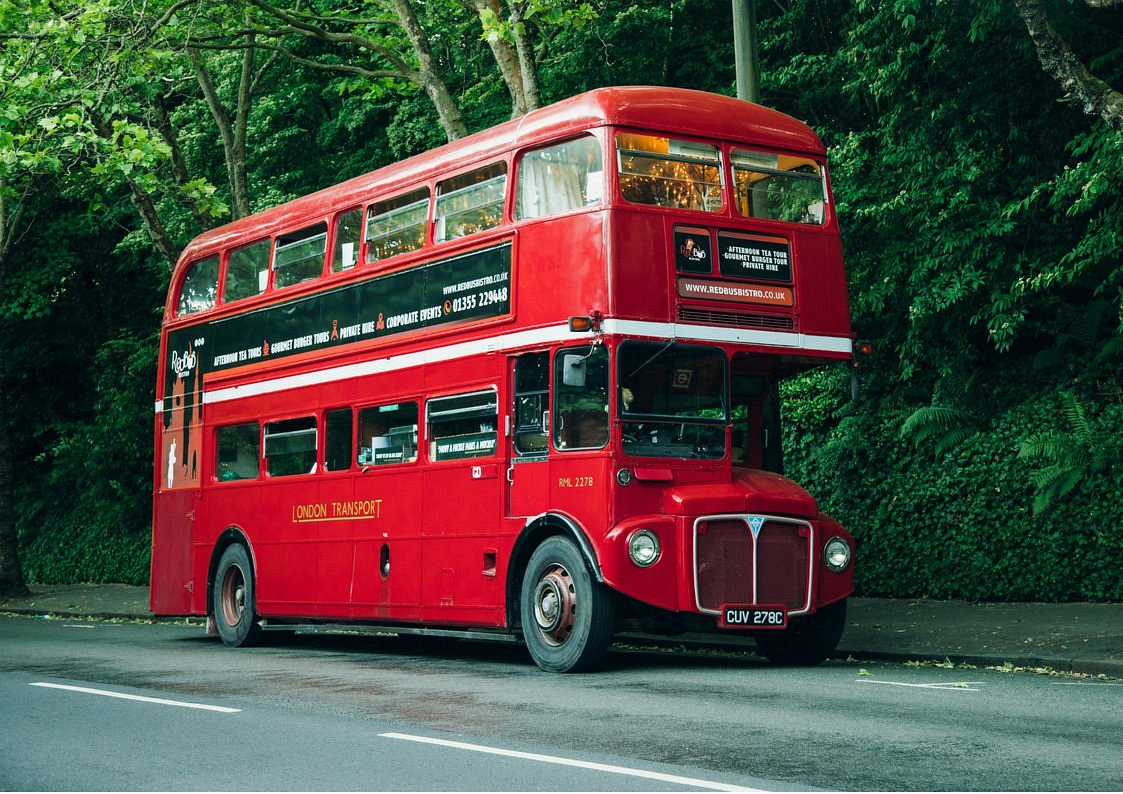red_busess: (148, 86, 855, 670)
